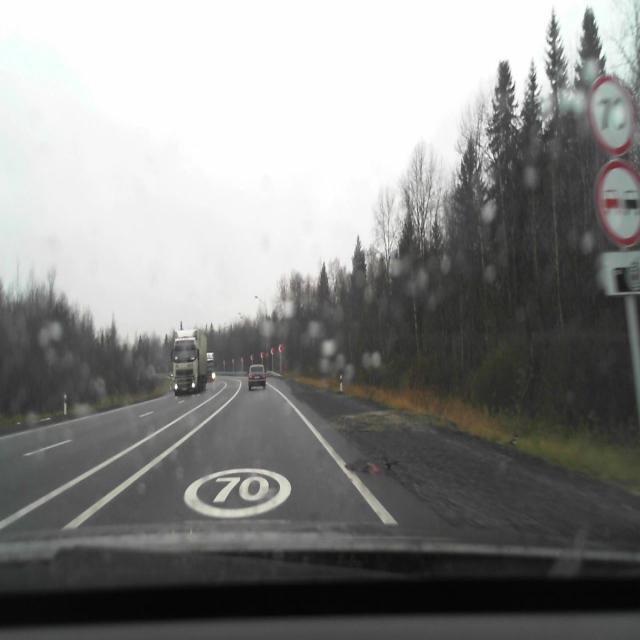road sign: (602, 252, 640, 294)
